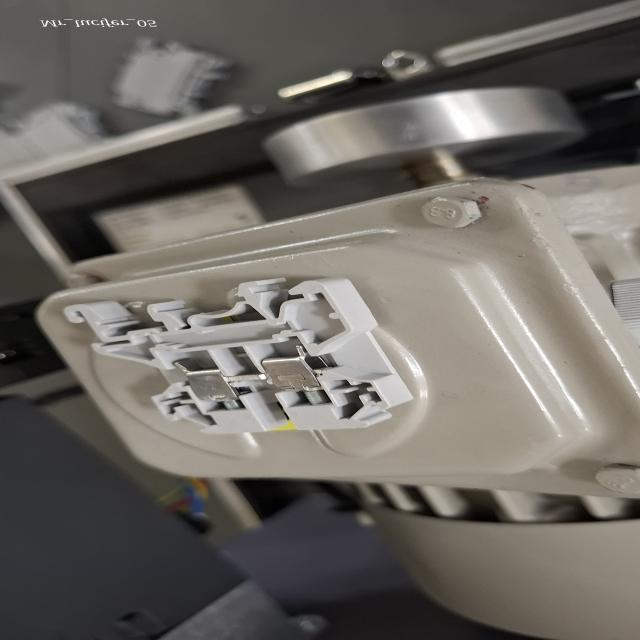Pass: (48, 275, 426, 437)
